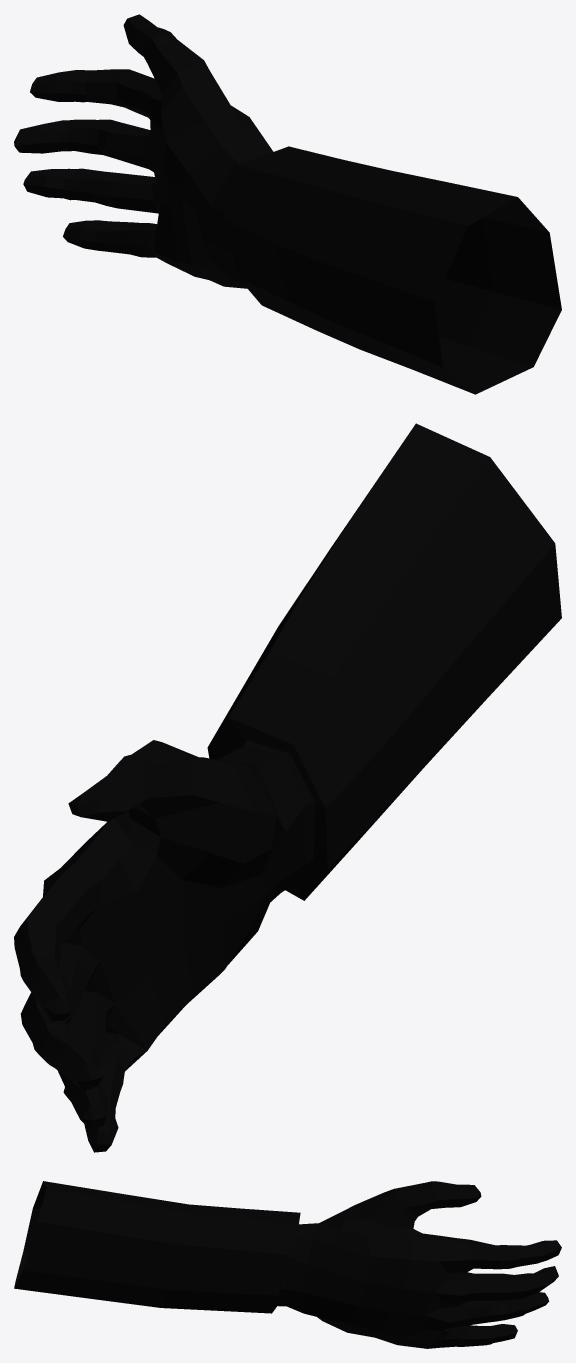
File: BucketHandR.obj
3 views of the same model, one above another, from view 1: azimuth 30°, elevation 25°; view 2: azimuth 150°, elevation 25°; view 3: azimuth 270°, elevation 25° (orthographic). The views are drawn at different scales.
Visible parts, largest first — view 1: h2_Hand h2_polySurface1; view 2: h2_Hand h2_polySurface1; view 3: h2_Hand h2_polySurface1.
Part boxes in pixels (box(x1,y1,x2,y2)): h2_Hand h2_polySurface1: box(14, 14, 561, 394); h2_Hand h2_polySurface1: box(14, 423, 561, 1152); h2_Hand h2_polySurface1: box(14, 1181, 561, 1348).
Size of the model in its own units: 0.4121 by 0.6556 by 1.77.
Materials: 1 (1 with a texture image).
